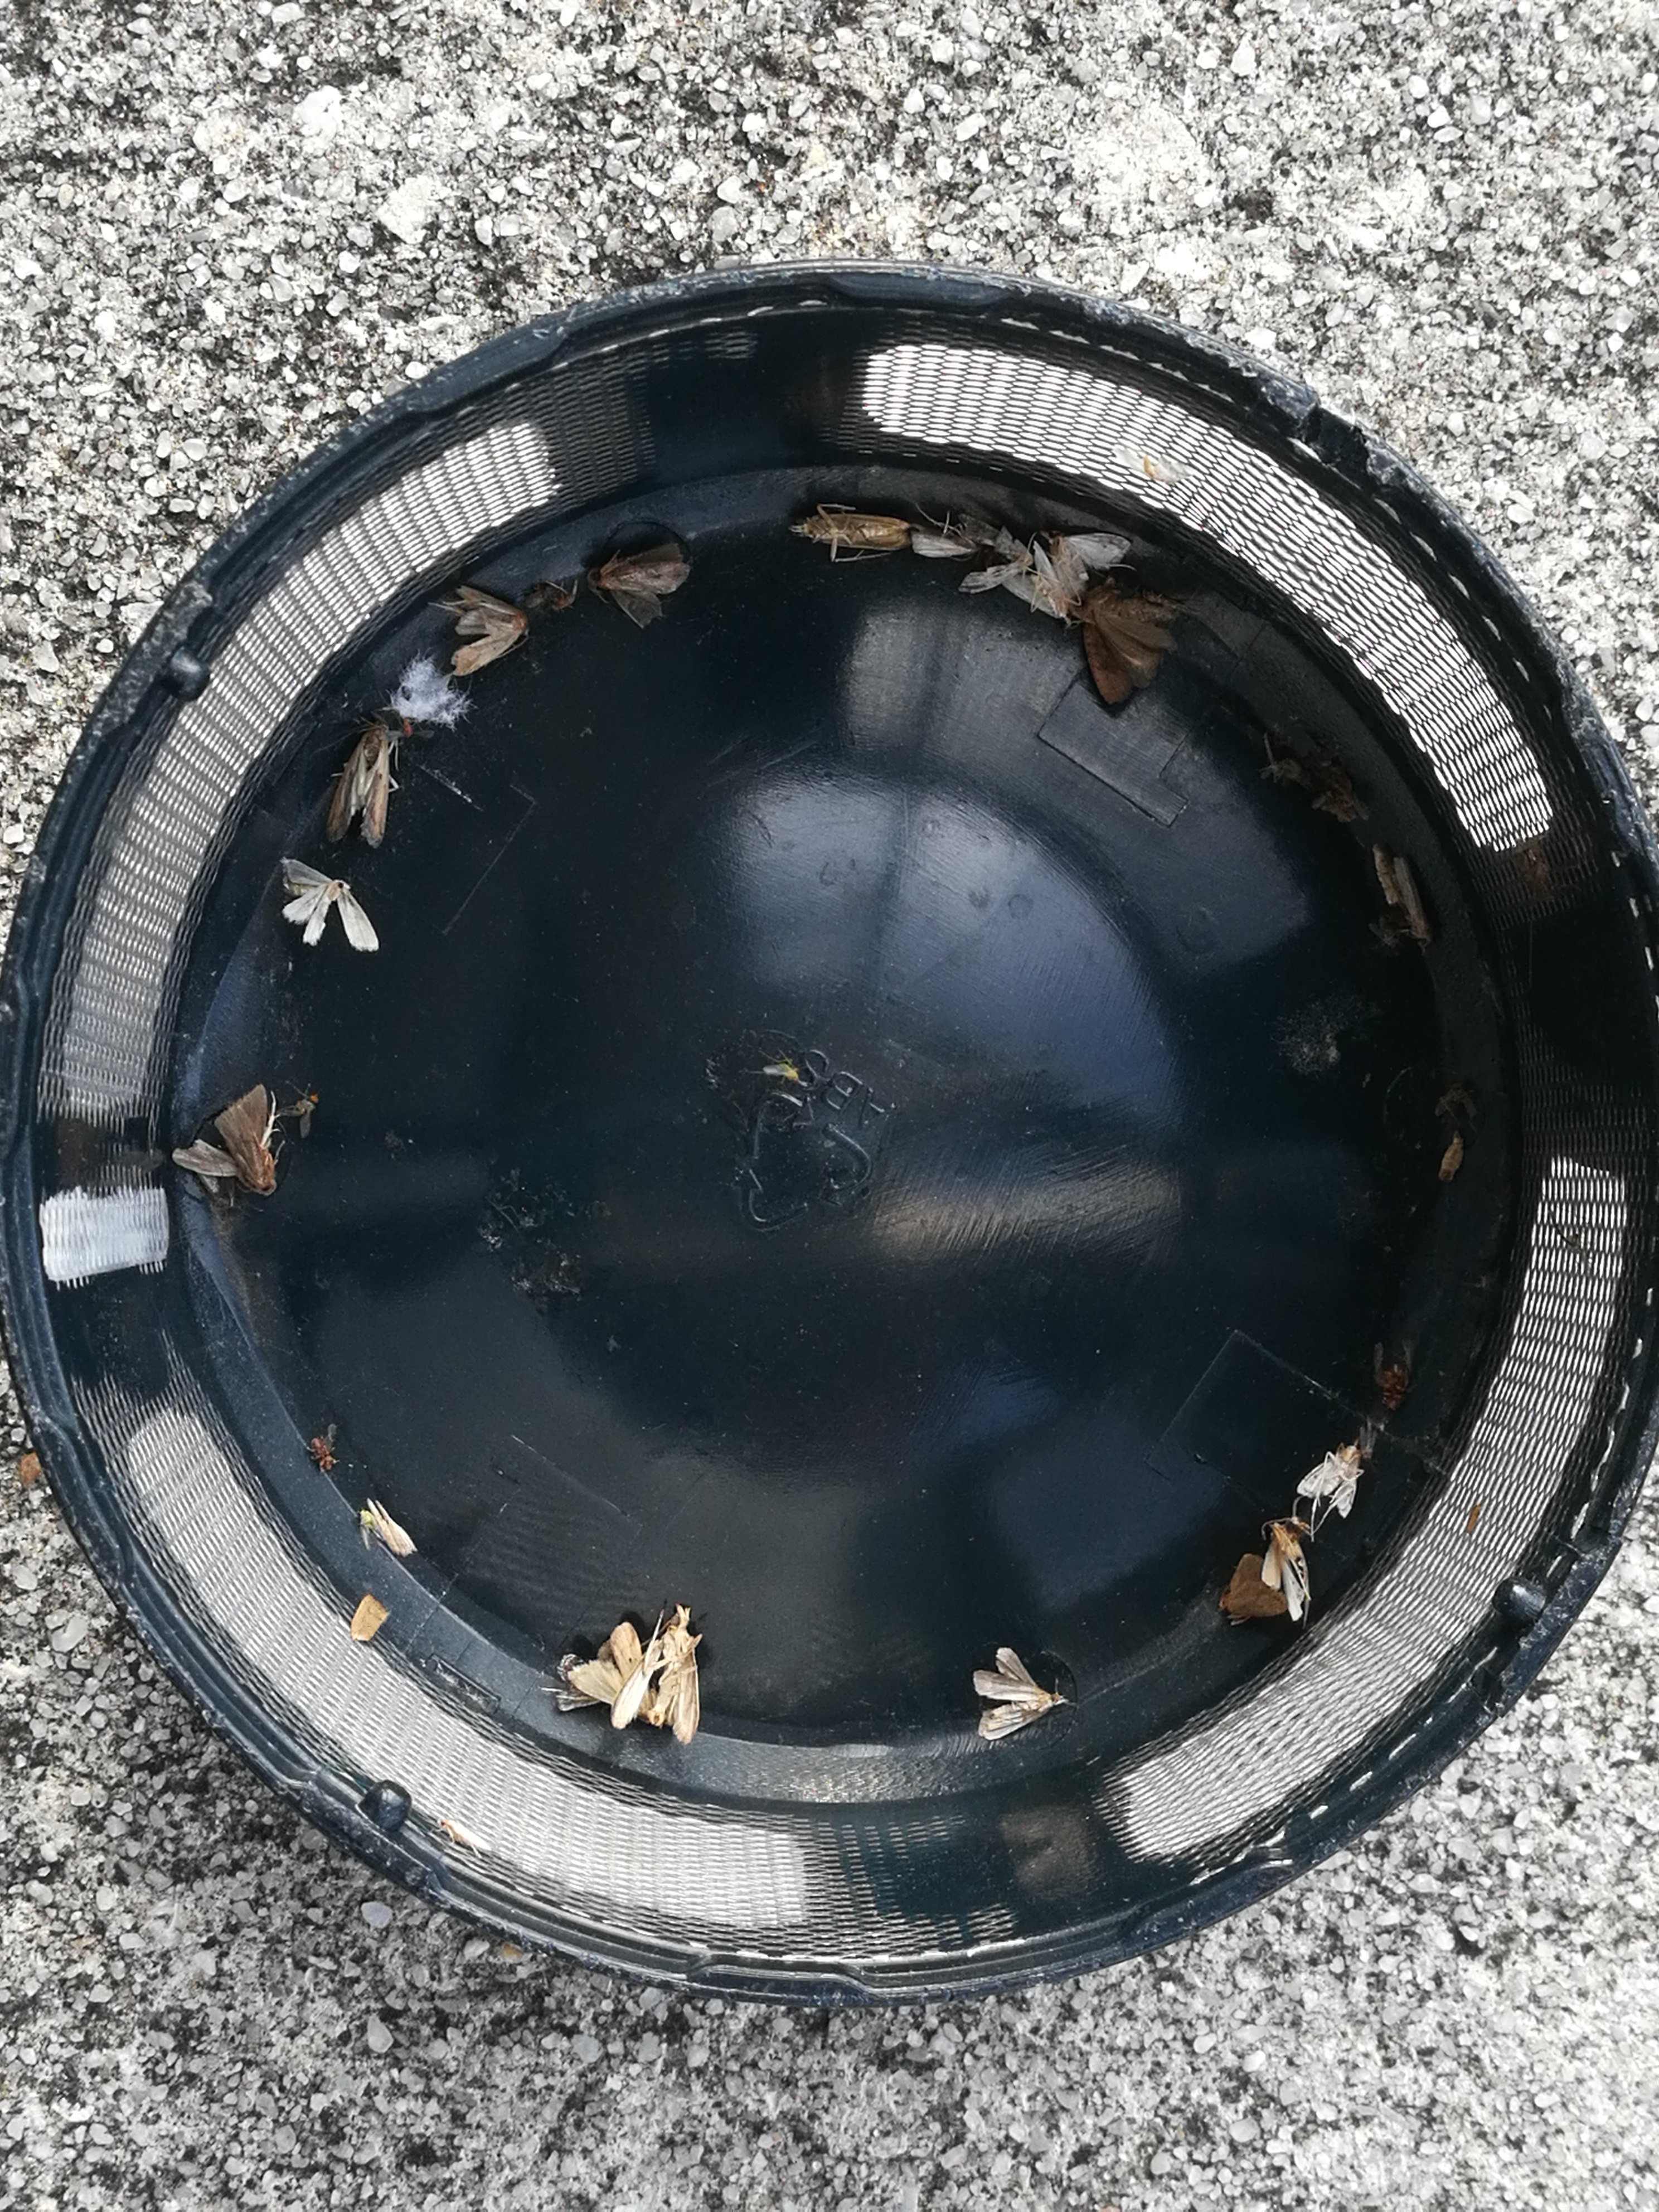mosquito: (796, 517, 906, 549), (1396, 853, 1429, 944)
moth: (613, 1608, 701, 1742), (173, 1085, 274, 1197), (1086, 587, 1176, 705), (282, 860, 380, 951), (566, 1623, 653, 1723), (589, 542, 692, 624), (974, 1648, 1063, 1742), (329, 725, 389, 843), (451, 585, 528, 674), (962, 512, 1032, 594), (1051, 535, 1131, 604), (1295, 1446, 1359, 1519), (1007, 543, 1068, 618), (1223, 1554, 1286, 1620)
